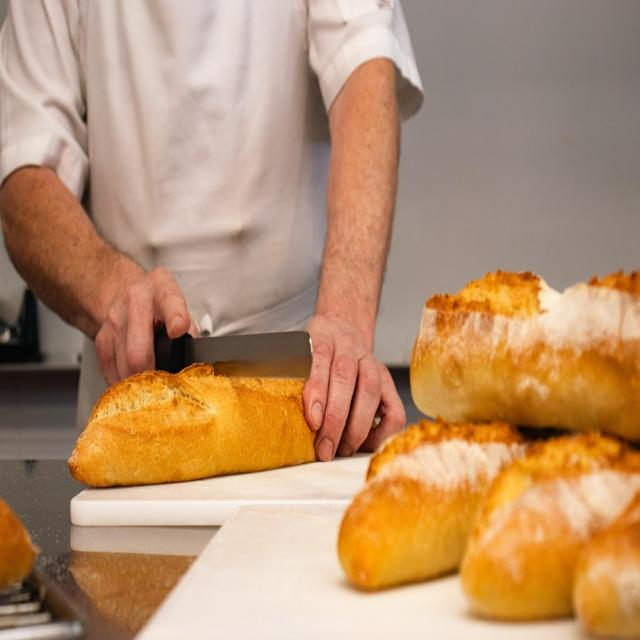Knife: (156, 331, 312, 379)
